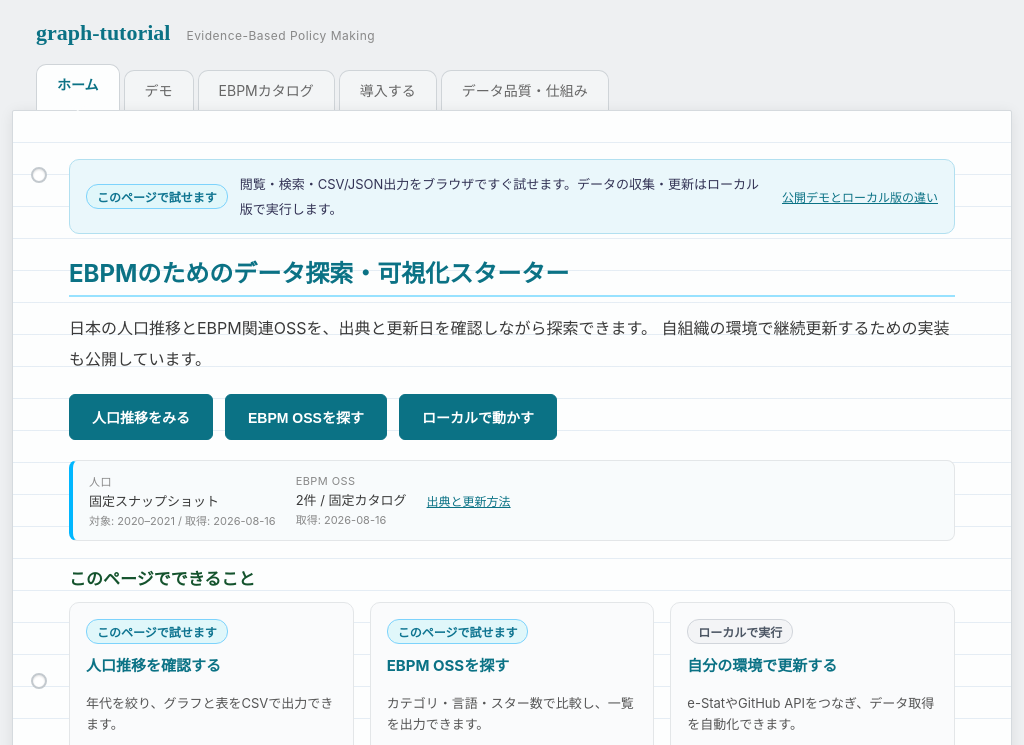
Test case: App › カタログタブの検索でリポジトリを絞り込む
The width and height of the screenshot is (1024, 745).
Click the tab "EBPMカタログ". click: (266, 93)
box: top-left (198, 70), bottom-right (335, 116)
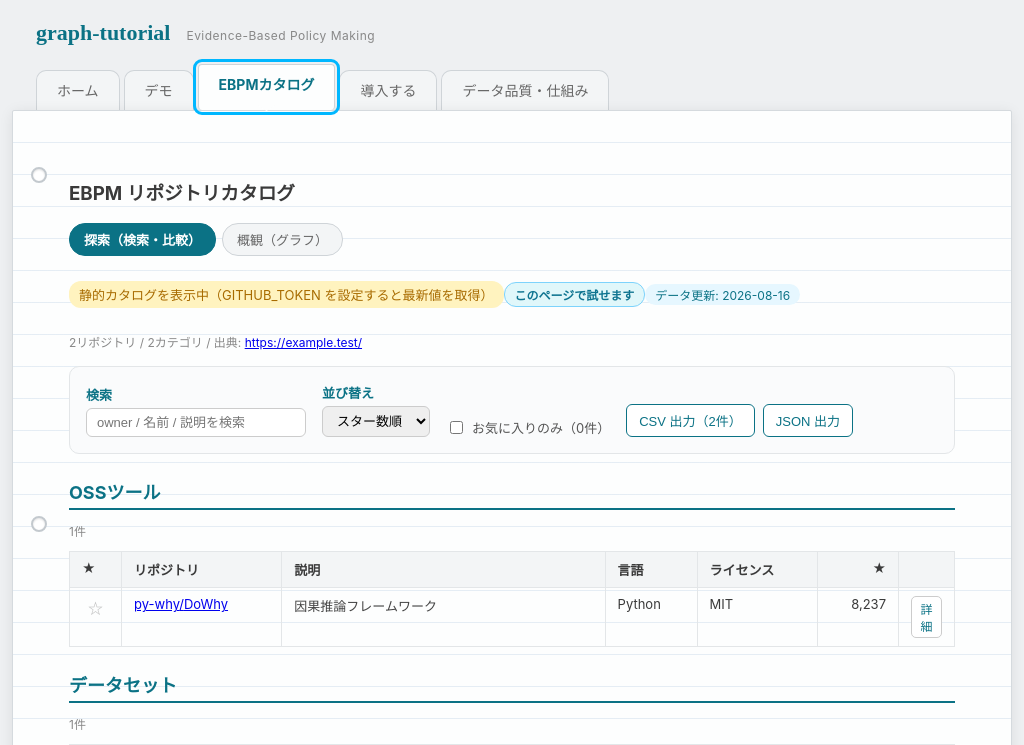
Type "delphi" into the search field named "カタログ検索". click: (196, 423)
box: top-left (86, 408), bottom-right (306, 437)
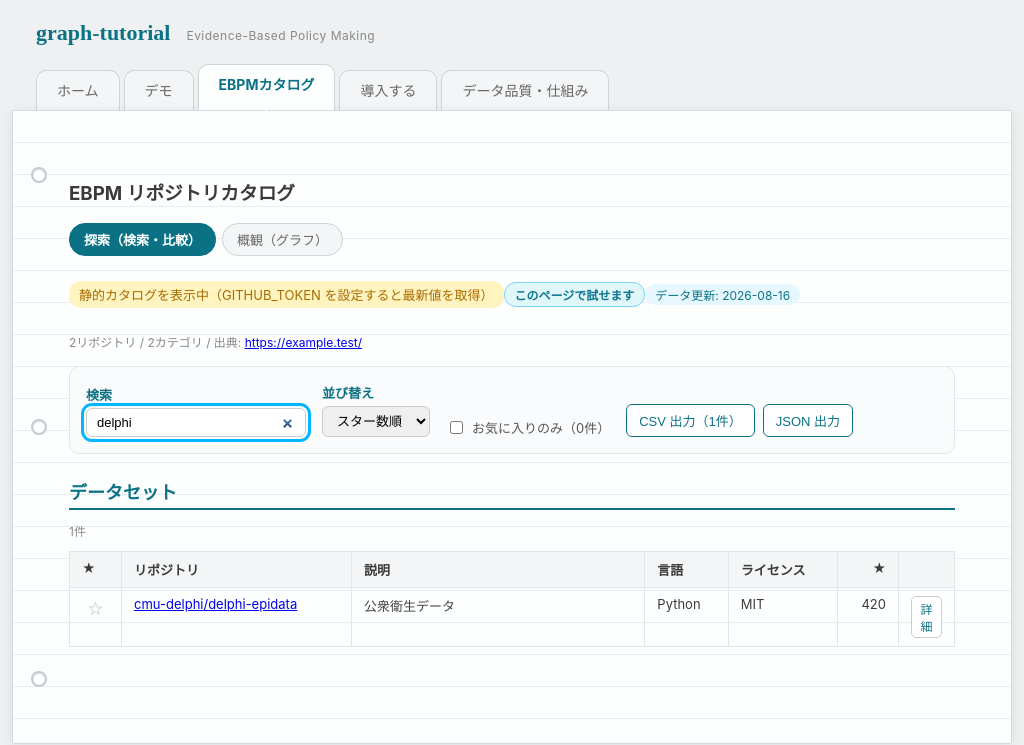
Expected: the link "cmu-delphi/delphi-epidata" is shown, top-left (134, 596), bottom-right (297, 612)
Expected: the link "py-why/DoWhy" is gone
